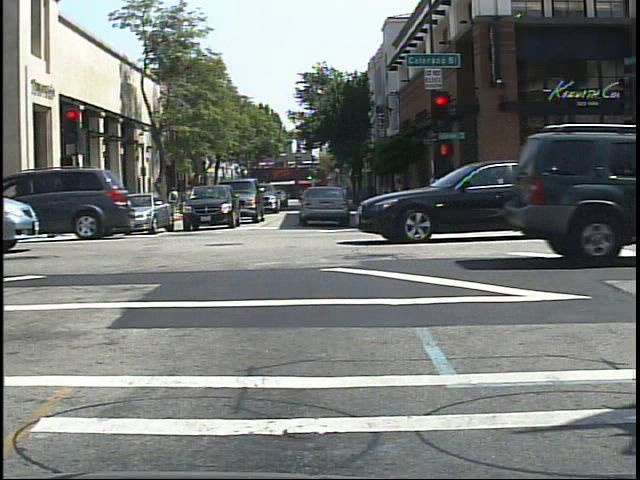person: (613, 154, 637, 221), (166, 181, 184, 221)
